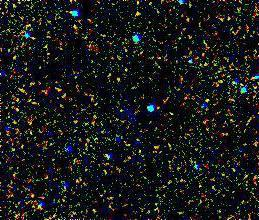star: (123, 6, 153, 36)
